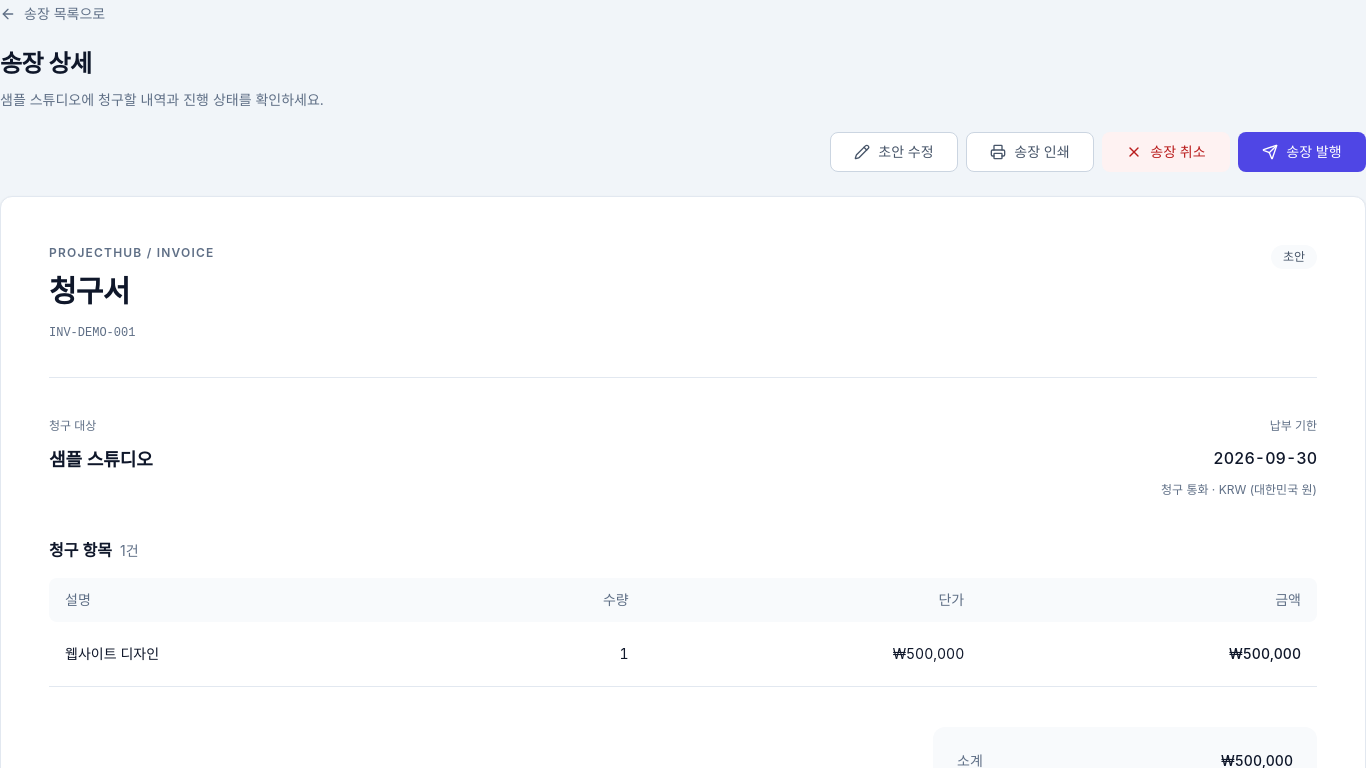
Test case: keeps the invoice unchanged and reports a storage failure
This screenshot has width=1366, height=768.
Click the button "송장 발행" at x=1302, y=152, box 1238,132 -> 1365,172
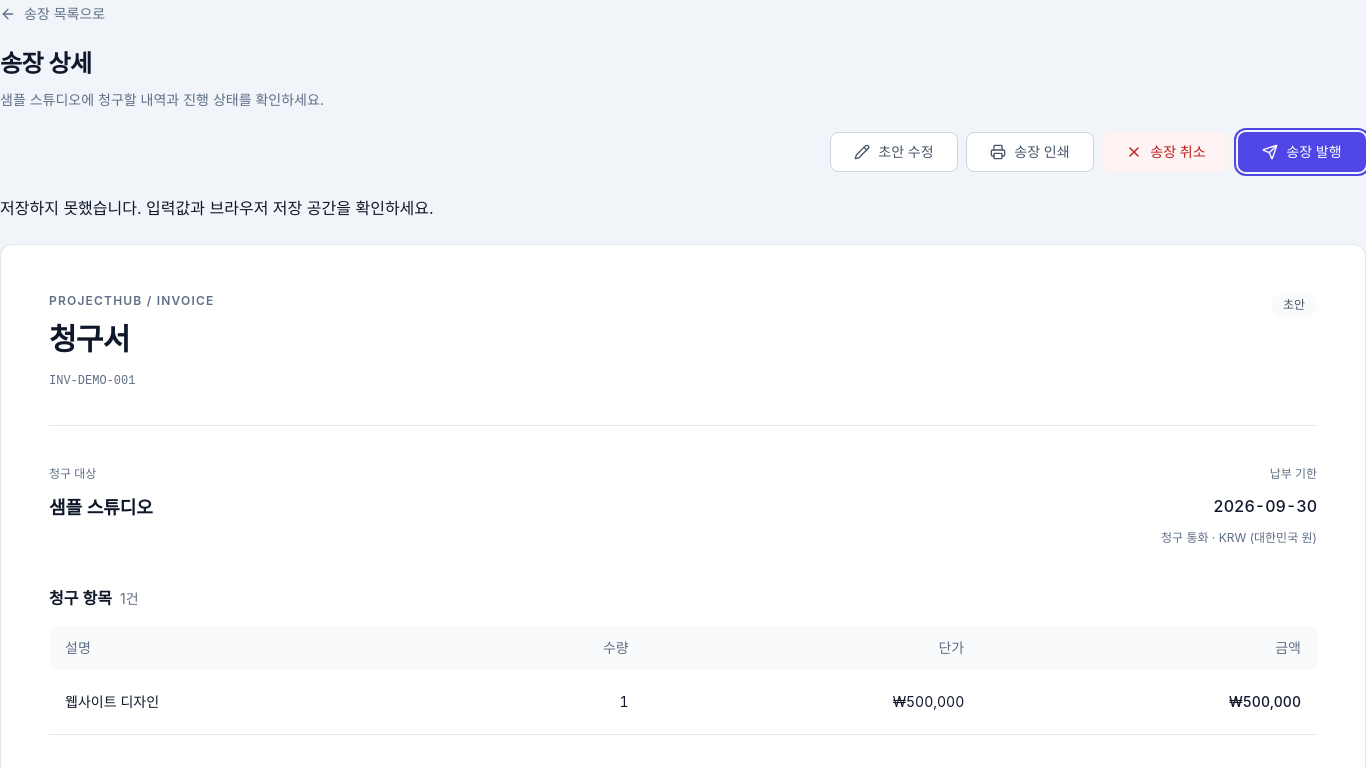
Now the message shows "저장하지 못했습니다", box 0,198 -> 434,218
